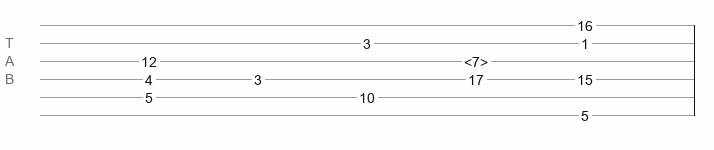1: (581, 36, 589, 46)
10: (359, 90, 375, 100)
12: (141, 54, 157, 64)
15: (577, 72, 593, 82)
16: (577, 18, 593, 28)
17: (468, 72, 484, 82)
3: (254, 72, 262, 82), (363, 36, 371, 46)
4: (145, 72, 153, 82)
5: (145, 90, 153, 100), (581, 108, 589, 118)
harmonic: (464, 54, 488, 64)
